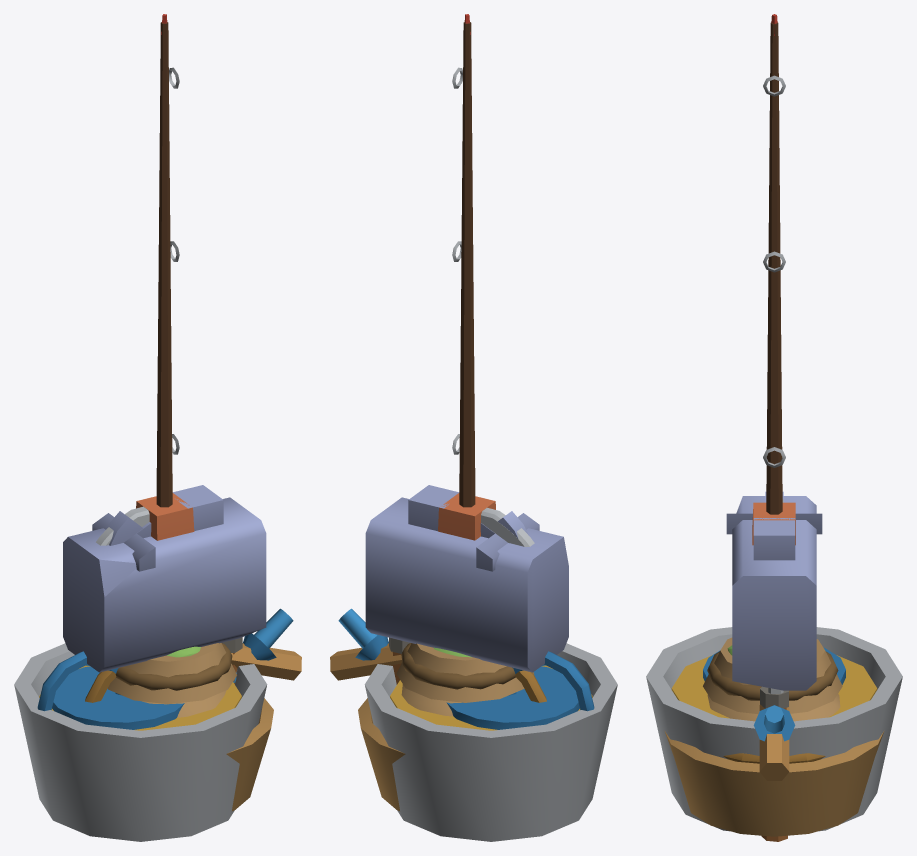
The model's file is tools.glb.
3 renders of one model, left to right at view 1: azimuth 30°, elevation 25°; view 2: azimuth 150°, elevation 25°; view 3: azimuth 270°, elevation 25°, orthographic.
Parts seen in each view (by area): view 1: tool-feed_scoop, tool-hammer, tool-fishing_rod, tool-watering_can, tool-seed_bag, tool-basket, tool-hoe, tool-sickle, tool-axe; view 2: tool-feed_scoop, tool-hammer, tool-fishing_rod, tool-watering_can, tool-seed_bag, tool-basket, tool-hoe, tool-sickle; view 3: tool-feed_scoop, tool-hammer, tool-basket, tool-fishing_rod, tool-seed_bag, tool-hoe, tool-watering_can, tool-sickle.
Part boxes in pixels (x1,y1,x2,y2): tool-feed_scoop: [14, 643, 301, 841]; tool-hammer: [63, 493, 266, 672]; tool-fishing_rod: [156, 14, 179, 507]; tool-watering_can: [37, 608, 293, 729]; tool-seed_bag: [107, 643, 236, 717]; tool-basket: [85, 670, 273, 811]; tool-hoe: [92, 485, 223, 571]; tool-sickle: [96, 506, 242, 684]; tool-axe: [106, 511, 143, 545]; tool-feed_scoop: [330, 643, 617, 841]; tool-hammer: [365, 493, 568, 672]; tool-fishing_rod: [452, 14, 475, 507]; tool-watering_can: [338, 608, 594, 729]; tool-seed_bag: [396, 643, 534, 716]; tool-basket: [358, 670, 546, 811]; tool-hoe: [408, 485, 539, 571]; tool-sickle: [389, 507, 534, 684]; tool-feed_scoop: [646, 627, 902, 831]; tool-hammer: [732, 496, 816, 690]; tool-basket: [664, 731, 884, 836]; tool-fishing_rod: [763, 14, 785, 514]; tool-seed_bag: [703, 637, 842, 721]; tool-hoe: [726, 513, 822, 560]; tool-watering_can: [703, 647, 845, 741]; tool-sickle: [760, 499, 788, 841].
Size of the model in its own units: 0.7255 by 2.02 by 0.5955.
